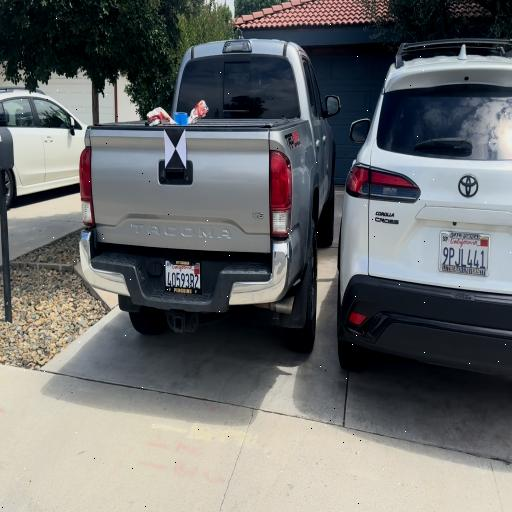target: (164, 129, 186, 169)
